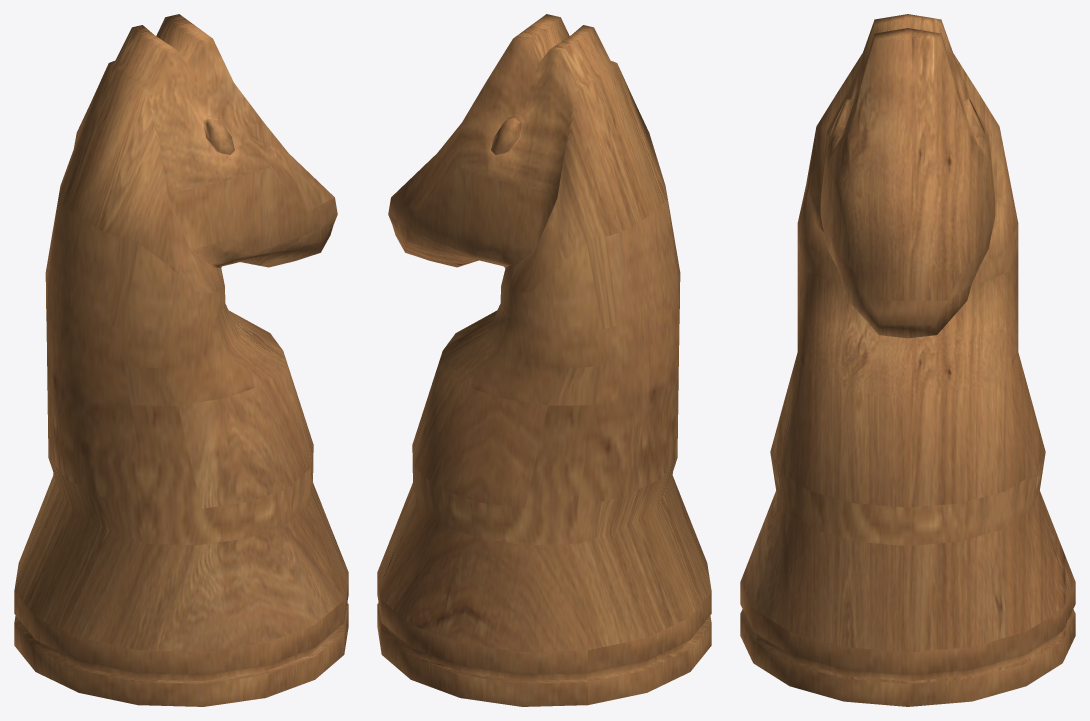
The model's file is horse_b.glb.
3 views of the same model, side by side, from view 1: azimuth 30°, elevation 25°; view 2: azimuth 150°, elevation 25°; view 3: azimuth 270°, elevation 25° (orthographic).
Visible parts, largest first — view 1: Cylinder.023; view 2: Cylinder.023; view 3: Cylinder.023.
Boxes of the visible parts, bbox=[...] form: Cylinder.023: bbox=[14, 14, 348, 706]; Cylinder.023: bbox=[377, 14, 711, 706]; Cylinder.023: bbox=[740, 14, 1075, 706].
Size of the model in its own units: 6.14 by 12.26 by 6.14.
Materials: 1 (1 with a texture image).
